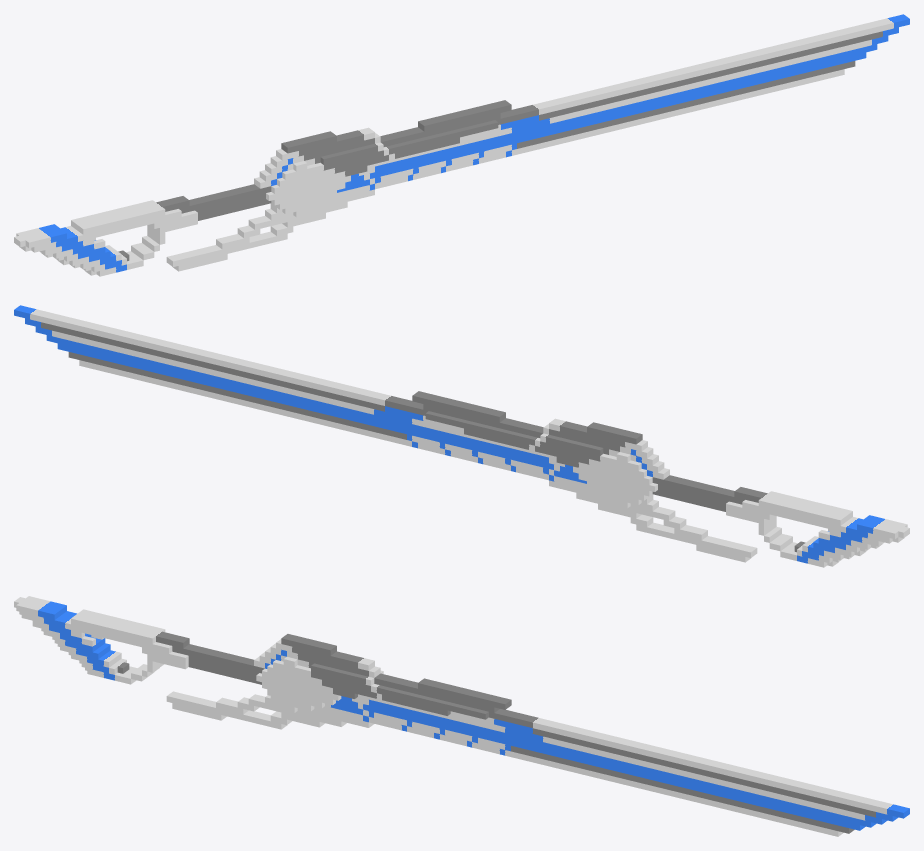
The model's file is 雷能双刃-1.gltf.
The picture shows the model from 3 angles, top to bottom: view 1: azimuth 30°, elevation 25°; view 2: azimuth 150°, elevation 25°; view 3: azimuth 330°, elevation 25°; orthographic projection.
Parts seen in each view (by area): view 1: Object; view 2: Object; view 3: Object.
Boxes of the visible parts, x1,y1,x2,y2 form: Object: (14,14,909,276); Object: (14,305,909,567); Object: (14,596,909,836).
Bounding box in the file's own units: 163 × 17 × 4.
Materials: 1 (1 with a texture image).
